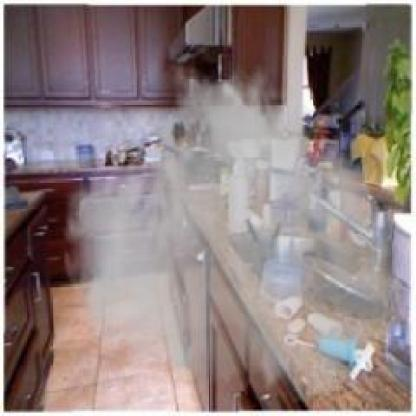Smoke: (59, 55, 407, 406)
